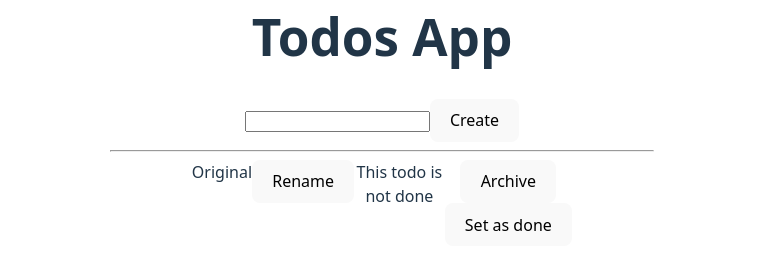
Test case: TodoView component › can rename a Todo
The width and height of the screenshot is (765, 263).
Expected: the text "Original" is shown, [192, 161, 252, 183]
Click the button "Rename" at (303, 182), box [252, 160, 354, 203]
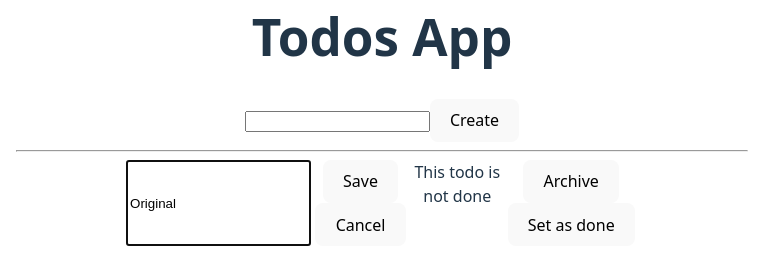
Replace the text in the field showing "Original" in the row of "This todo is not done" with "Edited" at (218, 203), box [126, 160, 311, 246]
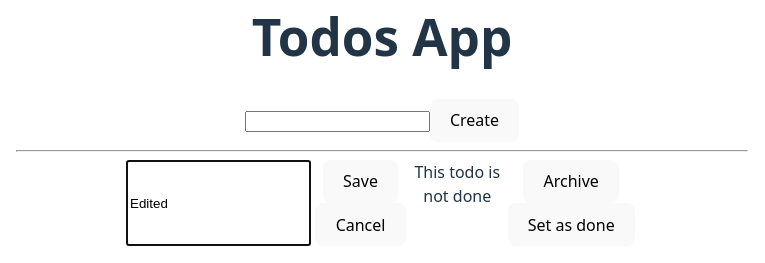
Click the button "Save" at (361, 182), box [323, 160, 398, 203]
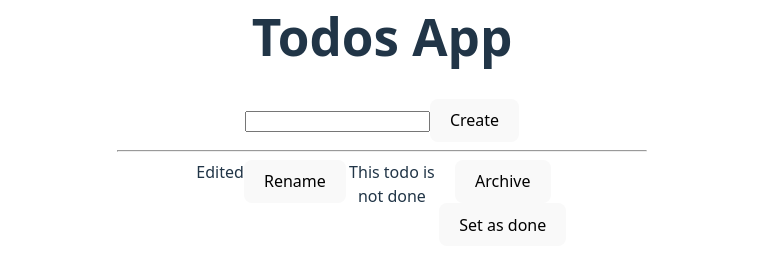
Now the text "Edited" is shown, box [196, 161, 244, 183]
